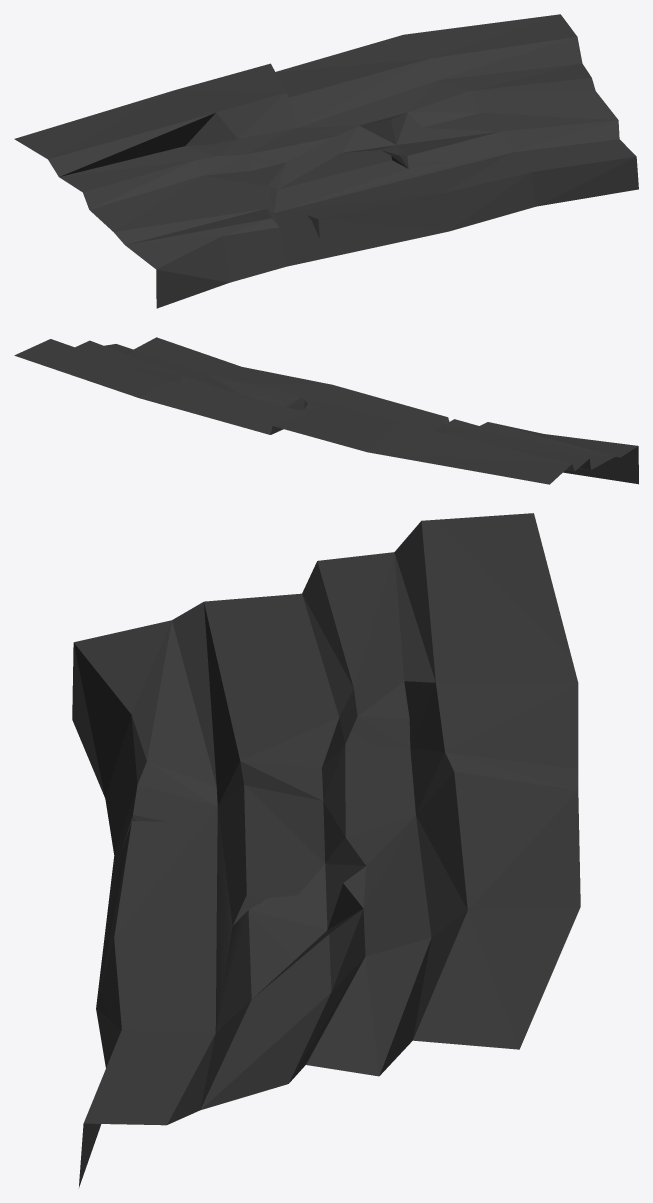
The model's file is ZLP_Stairs_A_4.FBX.
The picture shows the model from 3 angles, top to bottom: view 1: azimuth 30°, elevation 25°; view 2: azimuth 150°, elevation 25°; view 3: azimuth 270°, elevation 25°; orthographic projection. The views are drawn at different scales.
Visible parts, largest first — view 1: ZLP_Stairs_A_4; view 2: ZLP_Stairs_A_4; view 3: ZLP_Stairs_A_4.
Boxes of the visible parts, x1=… form: ZLP_Stairs_A_4: x1=14, y1=14, x2=638, y2=308; ZLP_Stairs_A_4: x1=14, y1=337, x2=638, y2=484; ZLP_Stairs_A_4: x1=72, y1=513, x2=580, y2=1188.
Bounding box in the file's own units: 518 × 84.82 × 212.
